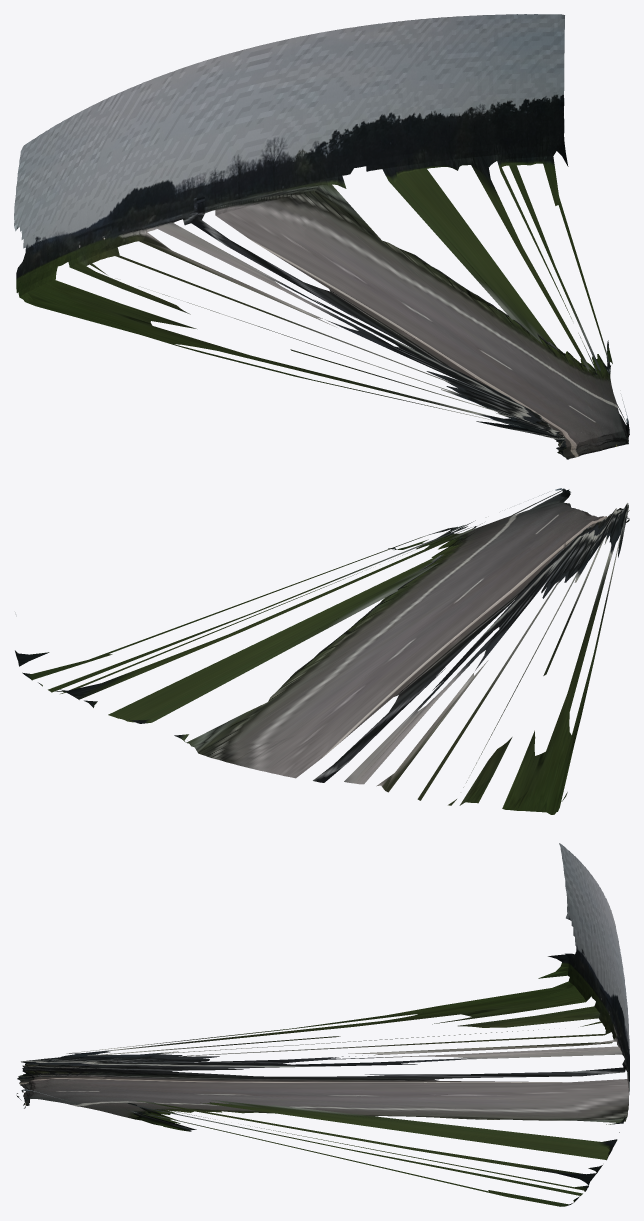
The picture shows the model from 3 angles, top to bottom: view 1: azimuth 30°, elevation 25°; view 2: azimuth 150°, elevation 25°; view 3: azimuth 270°, elevation 25°; orthographic projection. The views are drawn at different scales.
Visible parts, largest first — view 1: defaultobject; view 2: defaultobject; view 3: defaultobject.
Boxes of the visible parts, x1=… form: defaultobject: x1=14, y1=14, x2=629, y2=459; defaultobject: x1=15, y1=488, x2=629, y2=814; defaultobject: x1=16, y1=843, x2=629, y2=1206.
Size of the model in its own units: 41.11 by 12.24 by 44.84.
Materials: 1 (1 with a texture image).
